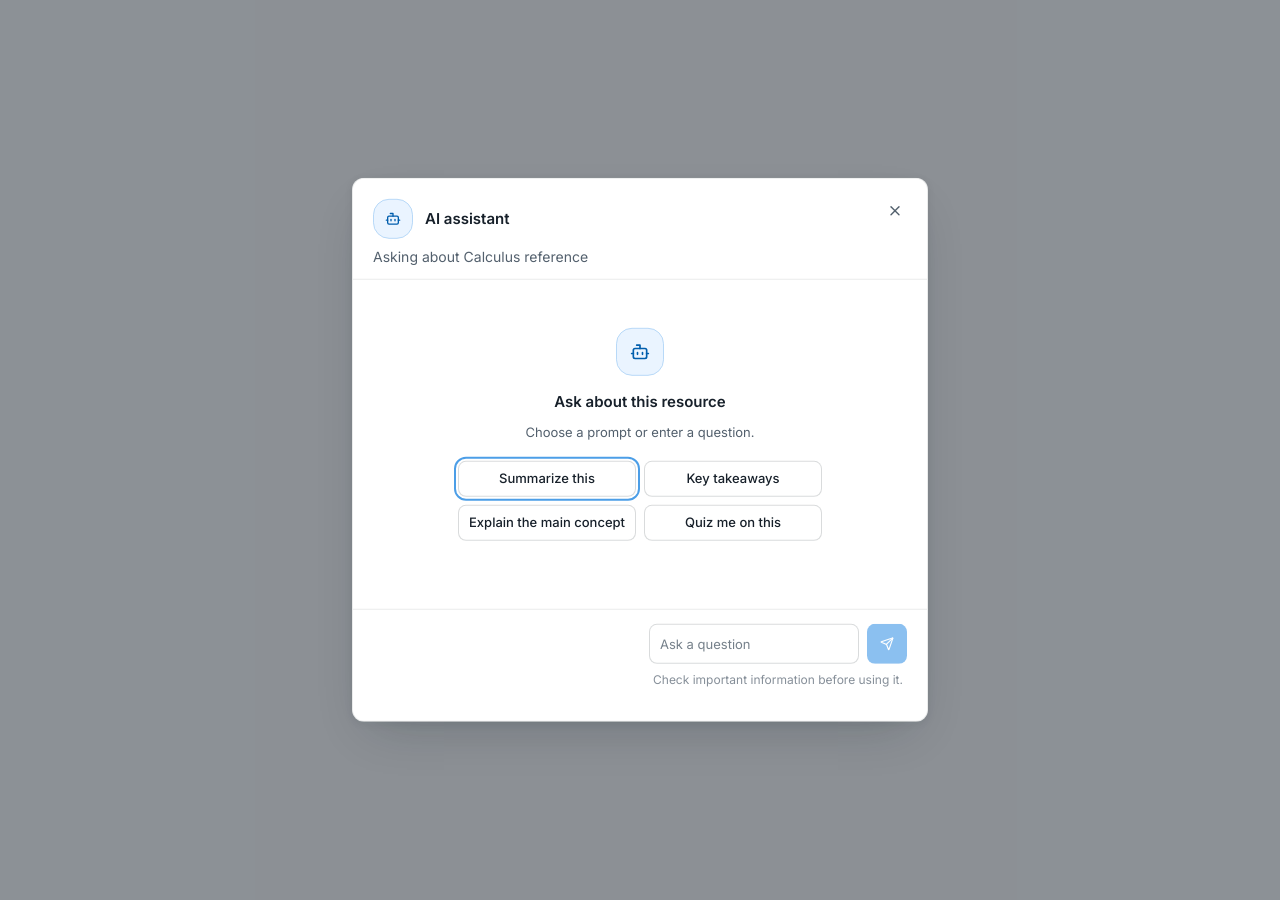
Test case: AIChatDialog › sends the resource ID to the AI chat endpoint and streams the reply
The width and height of the screenshot is (1280, 900).
Click the button "Summarize this" at x=547, y=479, box [458,461,636,497]
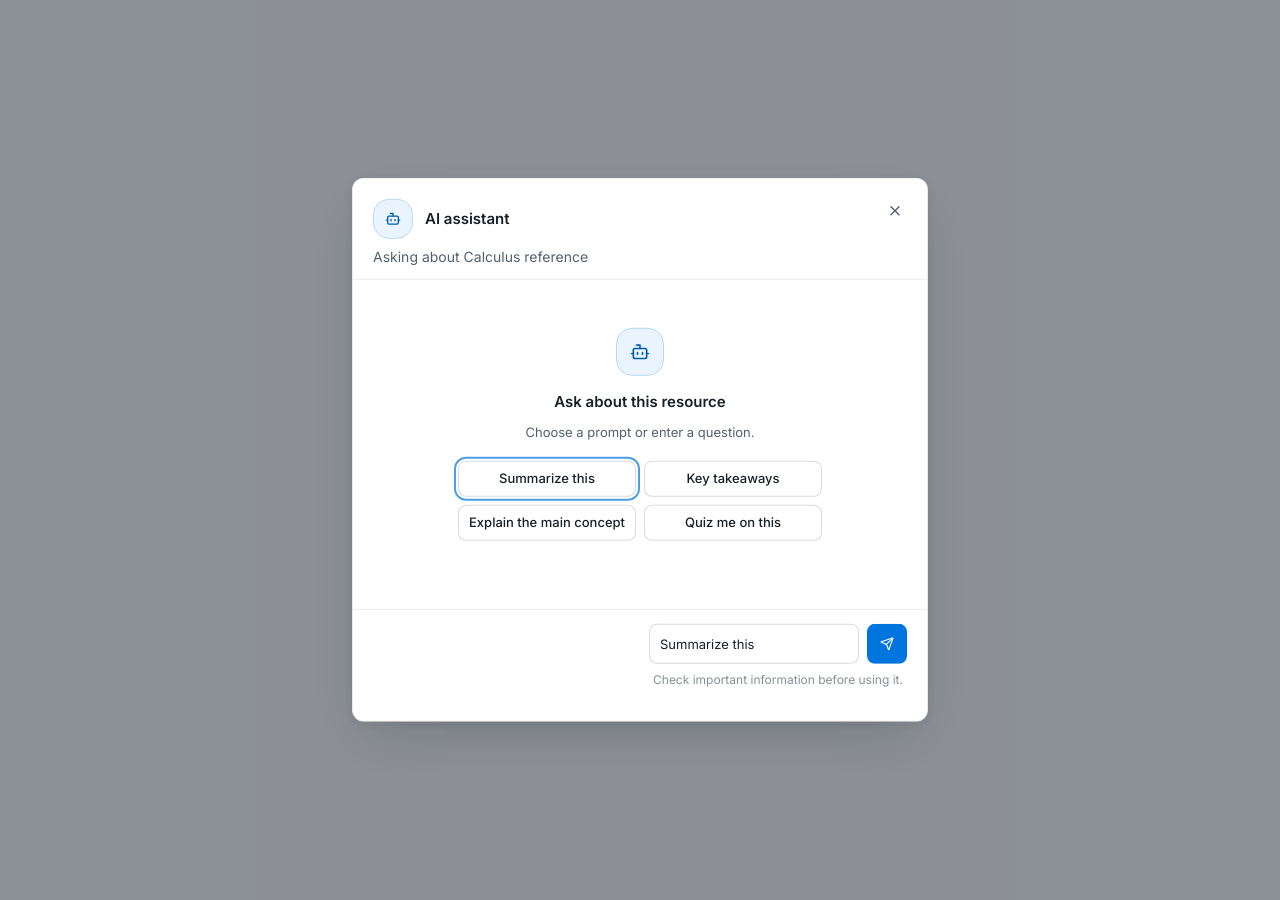
Click the button named "Send message" at x=887, y=644, box [867,624,907,664]
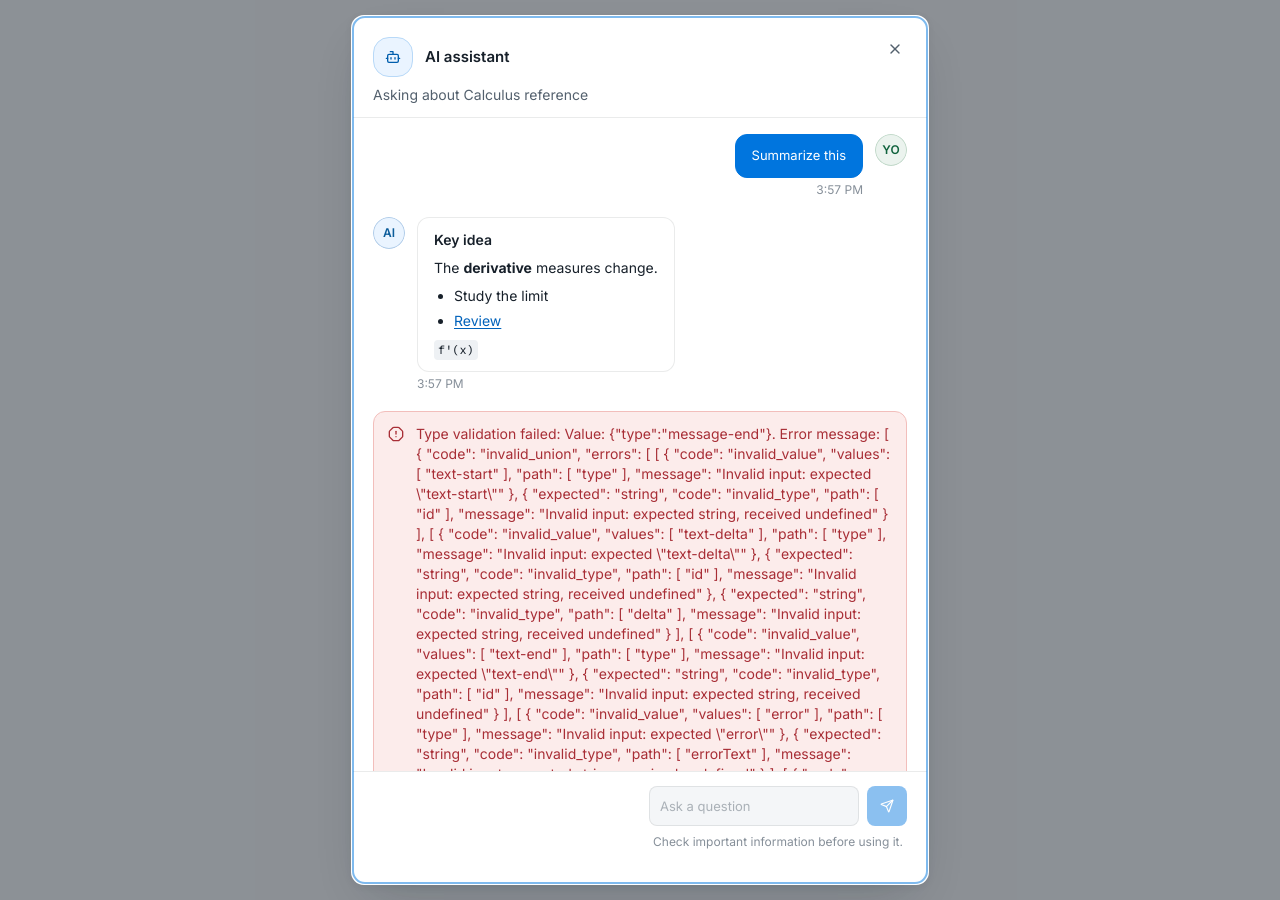
Now the heading "Key idea" is shown, box [434,231,492,248]
Now the text "derivative" is shown, box [463,259,532,276]
Now the text "f'(x)" is shown, box [434,340,478,360]
